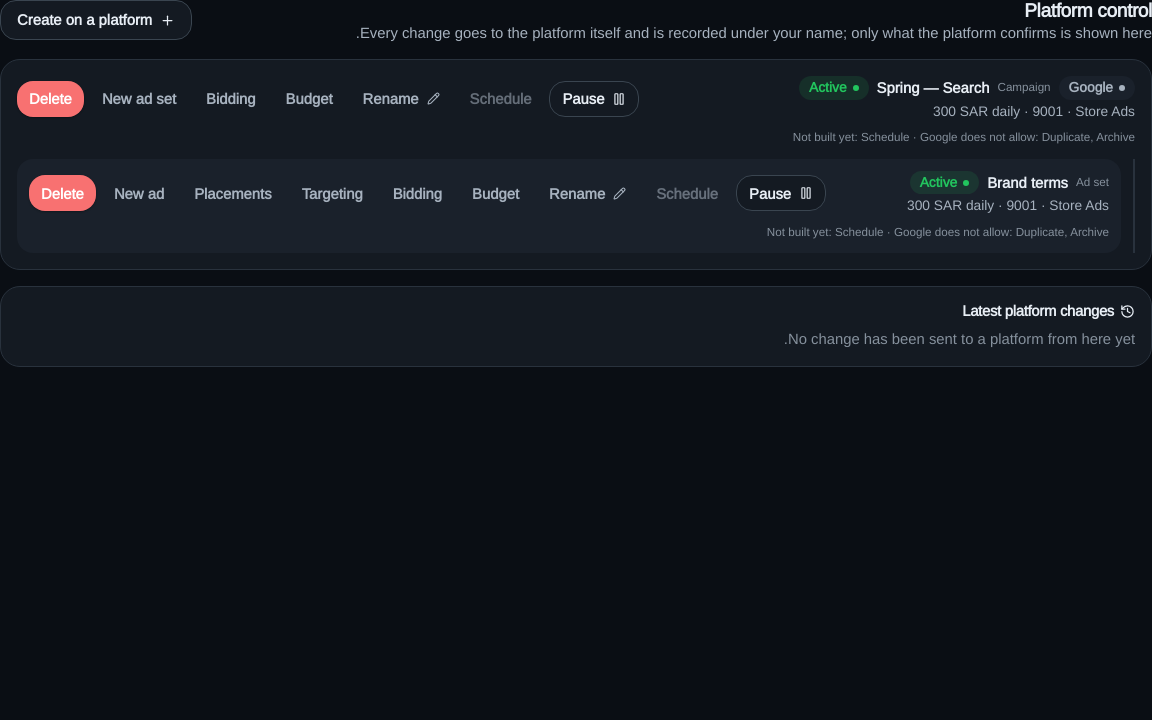
the campaign control panel › warns that Google countries change the whole campaign before targeting is sent
The width and height of the screenshot is (1152, 720).
Click the button with test id "control-targeting-g2": (332, 193) [290,175,375,211]
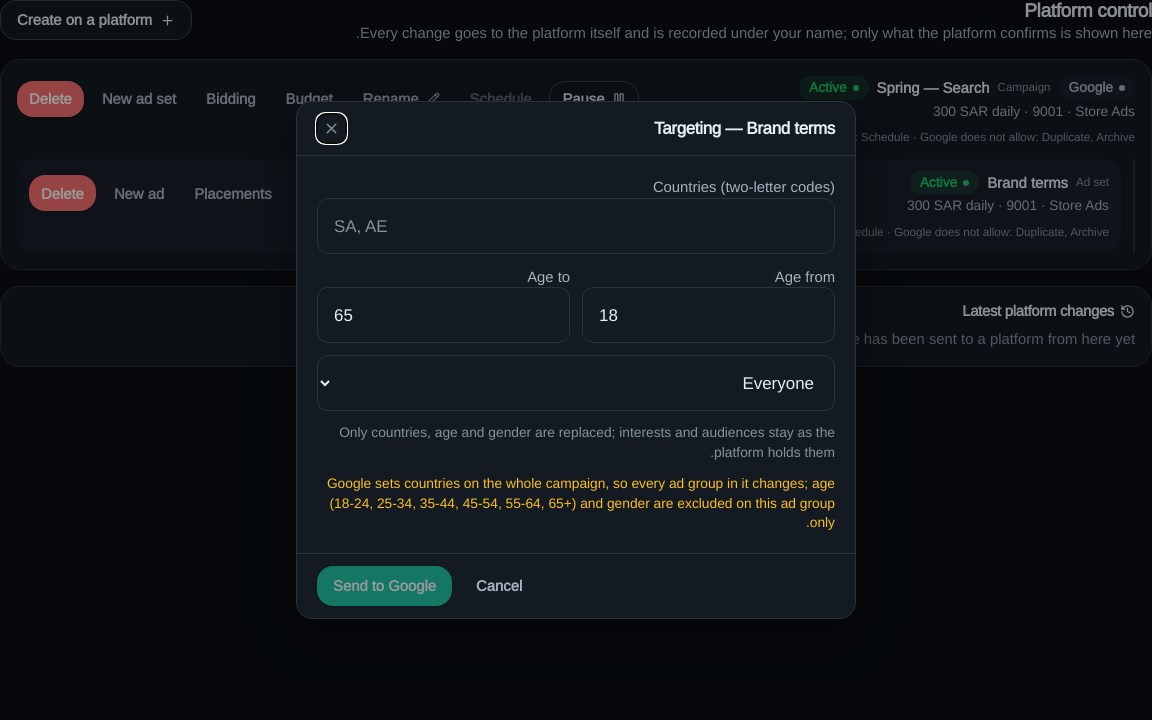
expect the text with test id "control-google-targeting-scope" shows "every ad group in it changes": met, box [327,475,835,530]
